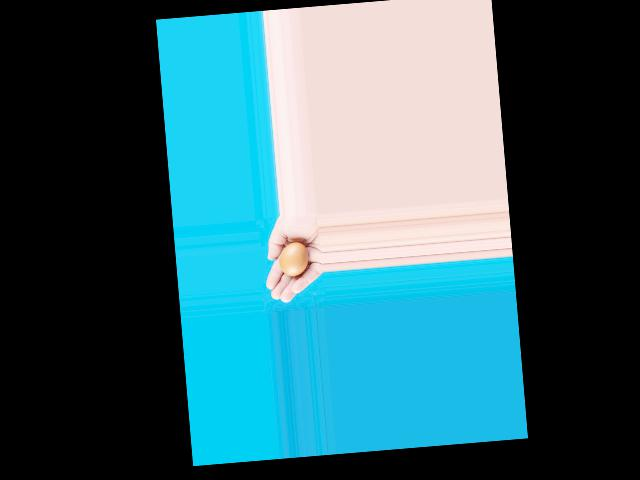egg: (278, 241, 309, 278)
